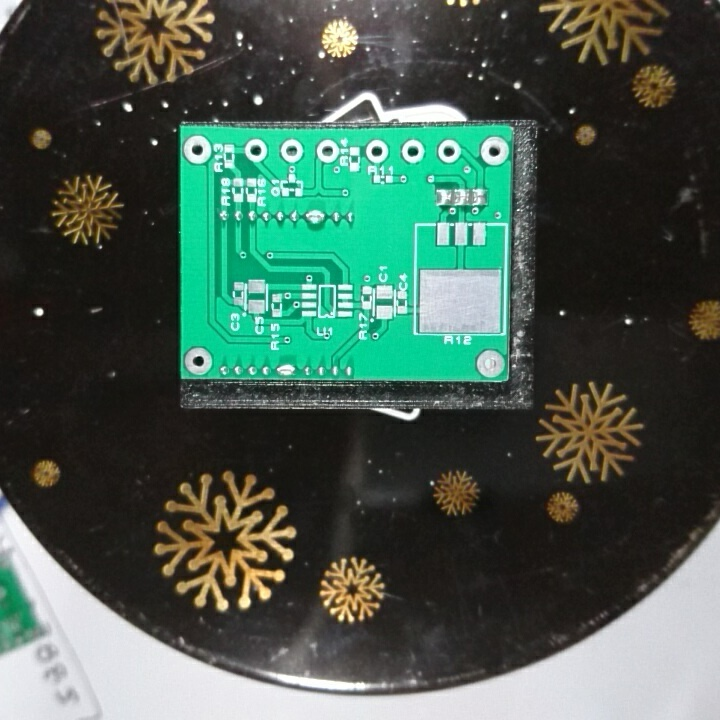F: (181, 344, 214, 380), (477, 134, 510, 166), (182, 133, 211, 168), (474, 348, 506, 379), (399, 138, 427, 167), (277, 138, 305, 166), (435, 138, 462, 166), (243, 137, 269, 165), (314, 137, 339, 166), (363, 138, 390, 164)
P: (303, 206, 327, 231), (273, 361, 299, 380)
